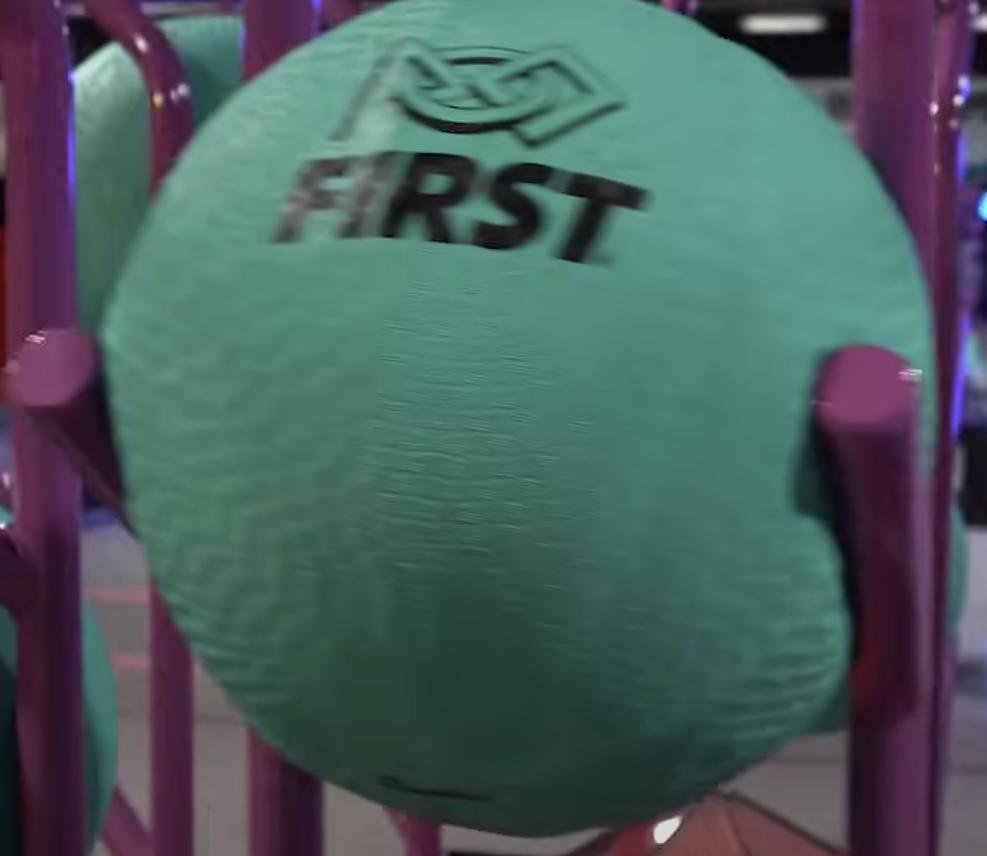algae: (98, 0, 931, 836), (72, 16, 240, 327), (0, 506, 114, 856), (817, 488, 971, 732)
